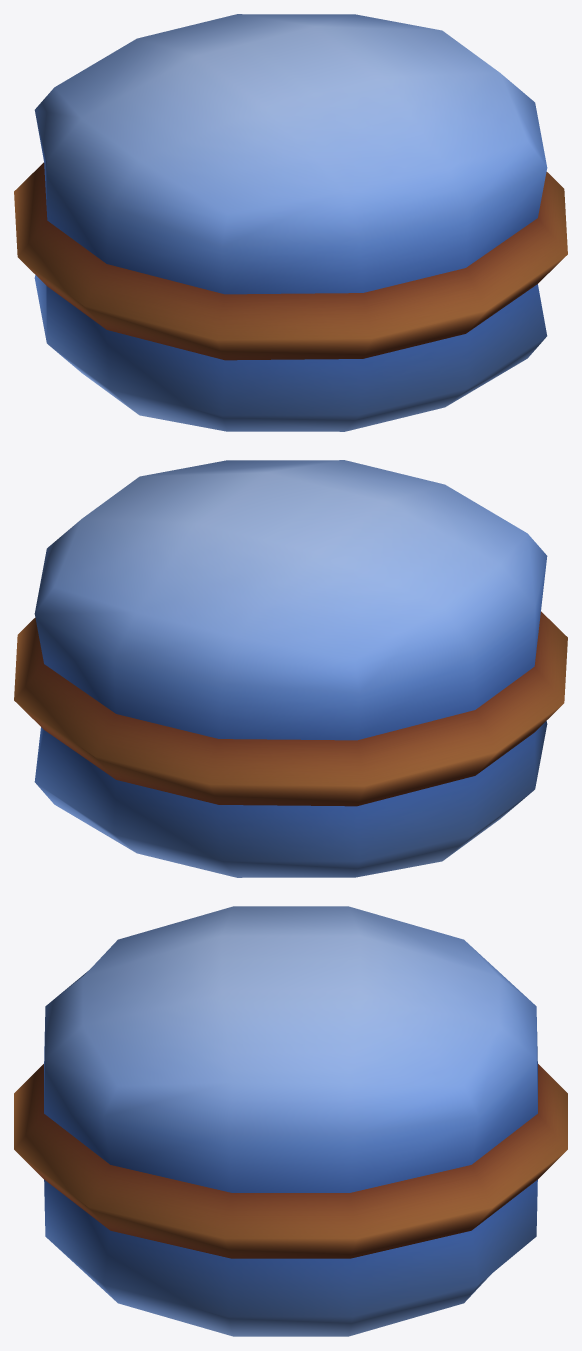
The model's file is m_Macaron10.fbx.
3 views of the same model, one above another, from view 1: azimuth 30°, elevation 25°; view 2: azimuth 150°, elevation 25°; view 3: azimuth 270°, elevation 25° (orthographic).
Visible parts, largest first — view 1: m_Macaron10; view 2: m_Macaron10; view 3: m_Macaron10.
Boxes of the visible parts, bbox=[...] form: m_Macaron10: bbox=[14, 14, 567, 431]; m_Macaron10: bbox=[14, 460, 567, 877]; m_Macaron10: bbox=[14, 906, 567, 1336].
Bounding box in the file's own units: 6.65 × 4.13 × 6.65.
